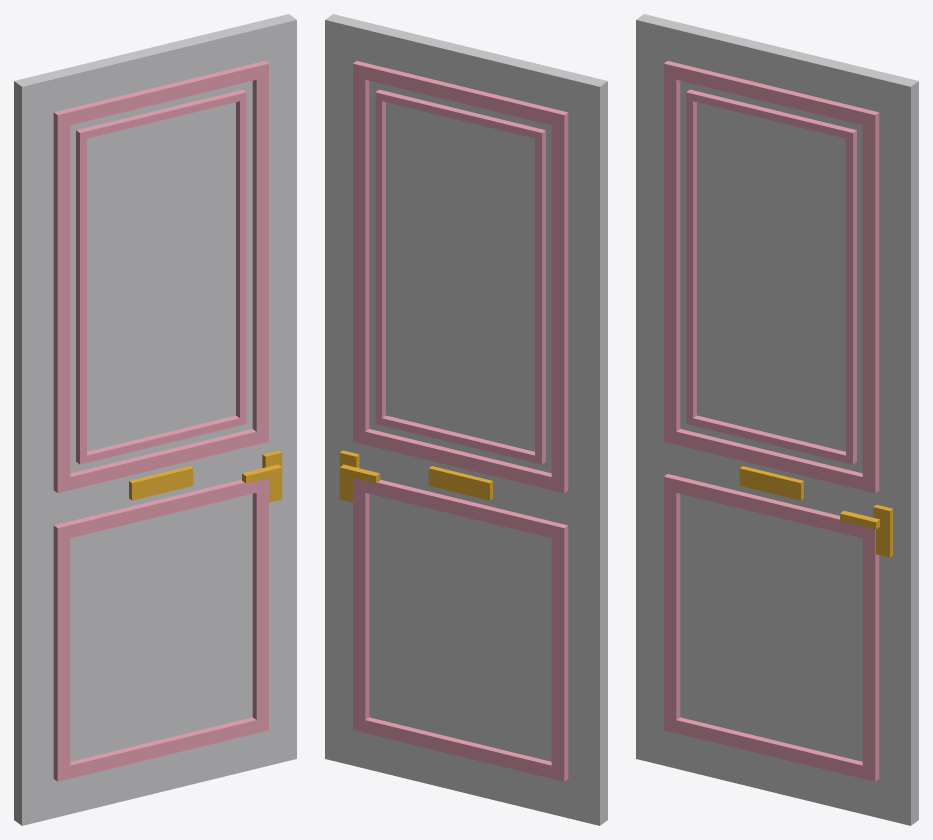
File: SM_Door_girls_100x255.fbx
3 renders of one model, left to right at view 1: azimuth 30°, elevation 25°; view 2: azimuth 150°, elevation 25°; view 3: azimuth 330°, elevation 25°, orthographic.
Visible parts, largest first — view 1: SM_Door_girls_100x255; view 2: SM_Door_girls_100x255; view 3: SM_Door_girls_100x255.
Part boxes in pixels (box(x1,y1,x2,y2)): SM_Door_girls_100x255: box(14, 14, 296, 825); SM_Door_girls_100x255: box(325, 14, 607, 825); SM_Door_girls_100x255: box(636, 14, 918, 825).
Bounding box in the file's own units: 0.988 × 2.54 × 0.175.
